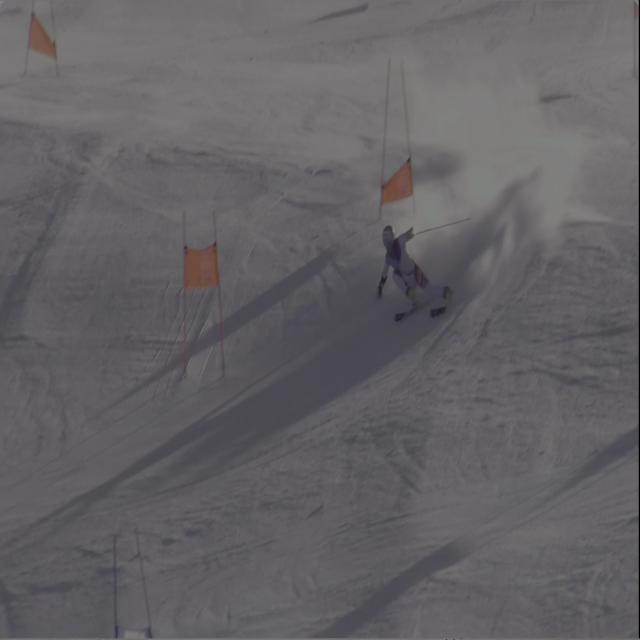gate: (164, 203, 196, 377), (203, 202, 233, 380)
